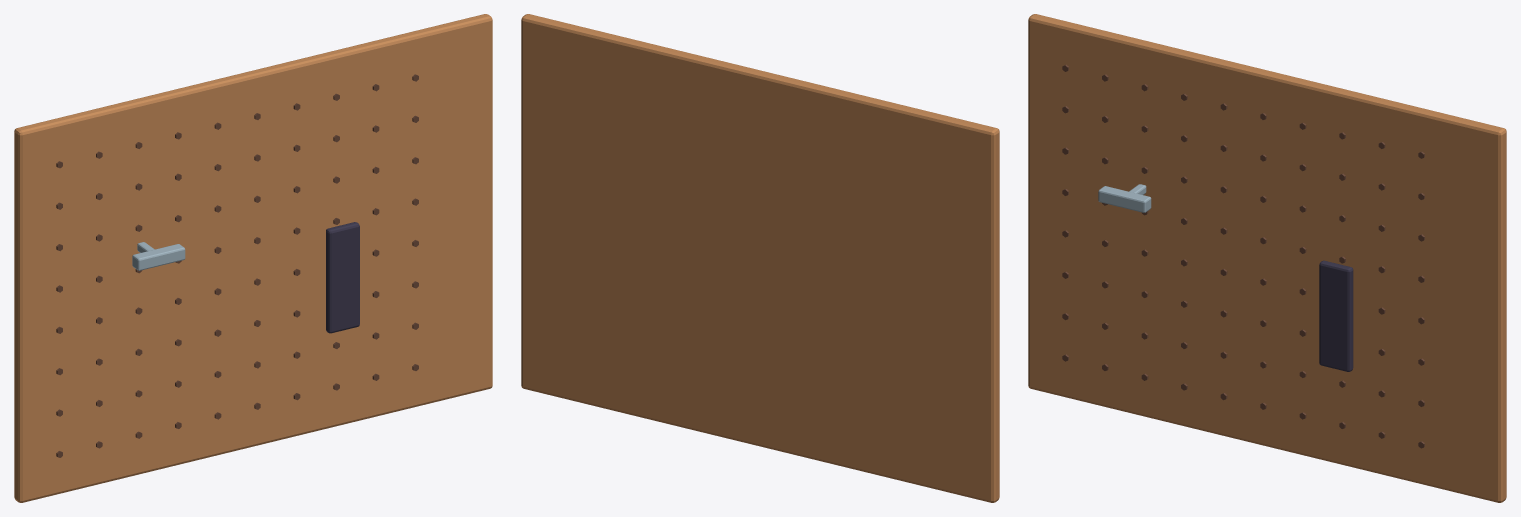
The model's file is pegboard.glb.
3 views of the same model, side by side, from view 1: azimuth 30°, elevation 25°; view 2: azimuth 150°, elevation 25°; view 3: azimuth 330°, elevation 25° (orthographic).
Visible parts, largest first — view 1: pegboard; view 2: pegboard; view 3: pegboard.
Part boxes in pixels (x1=…): pegboard: x1=14, y1=14, x2=492, y2=502; pegboard: x1=521, y1=14, x2=999, y2=502; pegboard: x1=1028, y1=14, x2=1506, y2=502.
Size of the model in its own units: 1.2 by 0.9 by 0.135.
